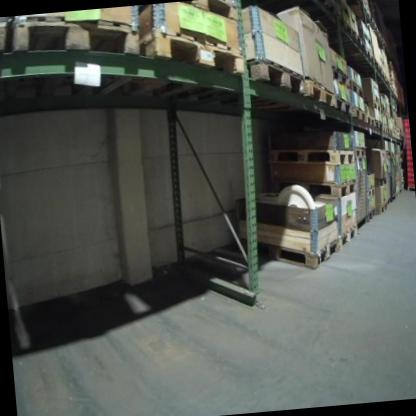pallet: (7, 9, 144, 74), (137, 18, 248, 90), (237, 229, 343, 278), (240, 53, 307, 106), (262, 175, 359, 206), (144, 0, 243, 30), (266, 143, 355, 173), (265, 0, 339, 22), (303, 72, 336, 113), (324, 14, 361, 50), (346, 40, 377, 69), (337, 223, 362, 248), (0, 18, 16, 57), (329, 64, 351, 92), (330, 94, 355, 118), (350, 104, 366, 126), (363, 97, 382, 113), (363, 205, 379, 224), (349, 79, 364, 98), (372, 60, 385, 81), (376, 200, 392, 217), (364, 185, 378, 201), (373, 173, 389, 187), (383, 72, 392, 91), (353, 146, 367, 158), (365, 114, 375, 129), (375, 120, 384, 133), (382, 125, 389, 140), (388, 127, 395, 141), (381, 106, 386, 116), (383, 151, 390, 158), (390, 152, 395, 159)
small_load_carrier: (403, 119, 409, 127), (405, 160, 412, 166), (406, 171, 413, 177), (407, 177, 414, 183), (408, 183, 414, 190), (404, 127, 410, 133), (405, 133, 411, 139), (405, 138, 411, 144), (406, 165, 412, 171), (406, 149, 412, 154), (407, 154, 412, 160), (406, 144, 411, 149)
stillage: (349, 167, 372, 229), (385, 156, 401, 202)
